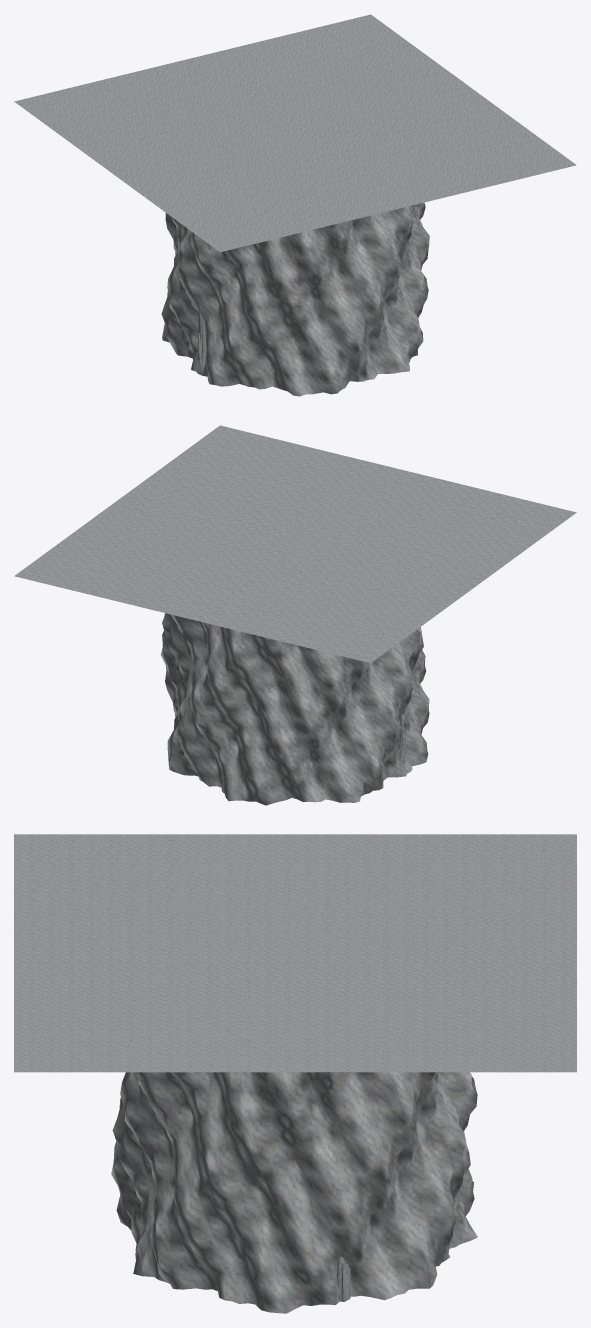
File: room.glb
3 views of the same model, one above another, from view 1: azimuth 30°, elevation 25°; view 2: azimuth 150°, elevation 25°; view 3: azimuth 270°, elevation 25° (orthographic). The views are drawn at different scales.
Visible parts, largest first — view 1: FOOT-BRIDGE; view 2: FOOT-BRIDGE; view 3: FOOT-BRIDGE.
Boxes of the visible parts, box(x1,y1,x2,y2) form: FOOT-BRIDGE: box(14, 14, 576, 396); FOOT-BRIDGE: box(14, 425, 576, 805); FOOT-BRIDGE: box(14, 834, 576, 1313).
Size of the model in its own units: 95.2 by 53 by 95.2.
1 material, 1 textured.
